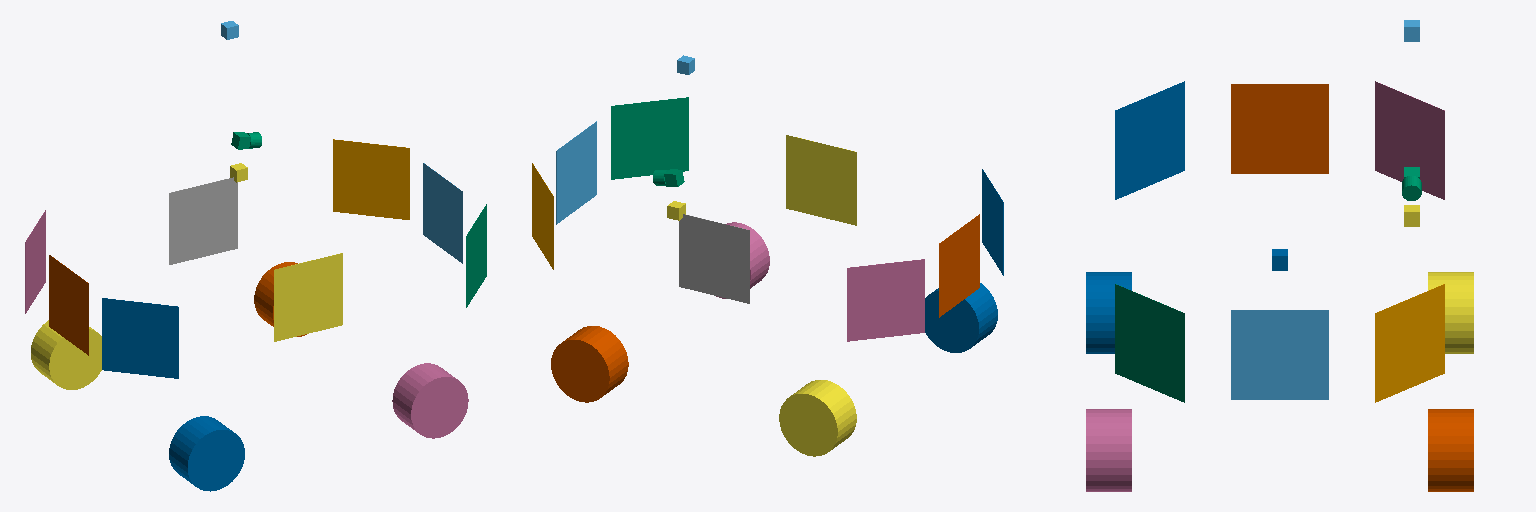
The robot description file, URDF, robot "rigatoni_opponent":
<?xml version="1.0" ?>
<!-- =================================================================================== -->
<!-- |    This document was autogenerated by xacro from [local-path]/catkin_ws/src/roboracing-software/rr_description/urdf/rigatoni_opponent.urdf.xacro | -->
<!-- |    EDITING THIS FILE BY HAND IS NOT RECOMMENDED                                 | -->
<!-- =================================================================================== -->
<robot name="rigatoni_opponent">
  <!-- ************************** Links *************************** -->
  <link name="base_footprint">
    <inertial>
      <mass value="0.0001"/>
      <inertia ixx="0.0001" ixy="0" ixz="0" iyy="0.0001" iyz="0" izz="0.0001"/>
    </inertial>
  </link>
  <link name="body_visual_origin">
    <inertial>
      <mass value="0.0001"/>
      <inertia ixx="0.0001" ixy="0" ixz="0" iyy="0.0001" iyz="0" izz="0.0001"/>
    </inertial>
    <visual>
      <geometry>
        <mesh filename="package://rr_description/meshes/rigatoni.stl" scale="0.01 0.01 0.01"/>
      </geometry>
    </visual>
    <!--            <collision>-->
    <!--                <xacro:mesh_geometry/>-->
    <!--            </collision>-->
  </link>
  <gazebo reference="body_visual_origin">
    <material>Gazebo/Grey</material>
  </gazebo>
  <gazebo reference="body_visual_origin">
    <collision>
      <surface>
        <contact>
          <collide_bitmask>0x1</collide_bitmask>
        </contact>
      </surface>
    </collision>
  </gazebo>
  <link name="body_inertial_center">
    <inertial>
      <mass value="50"/>
      <inertia ixx="0.5" ixy="0" ixz="0" iyy="0.75" iyz="0" izz="0.5"/>
    </inertial>
  </link>
  <gazebo reference="body_inertial_center"/>
  <!-- ************************** Joints *************************** -->
  <joint name="base_footprint_to_mesh_origin" type="fixed">
    <parent link="base_footprint"/>
    <child link="body_visual_origin"/>
    <origin rpy="1.5707963267948966 0 1.5707963267948966" xyz="0.53 0 0"/>
  </joint>
  <joint name="base_footprint_to_body_inertial_center" type="fixed">
    <parent link="base_footprint"/>
    <child link="body_inertial_center"/>
    <origin xyz="0.4 0 0.1"/>
  </joint>
  <link name="wheel_BL">
    <inertial>
      <mass value="0.01"/>
      <inertia ixx="0.001" ixy="0" ixz="0" iyy="0.001" iyz="0" izz="0.0078125"/>
    </inertial>
    <visual>
      <geometry>
        <cylinder length="0.14" radius="0.125"/>
      </geometry>
    </visual>
    <collision>
      <geometry>
        <cylinder length="0.14" radius="0.125"/>
      </geometry>
    </collision>
  </link>
  <gazebo reference="wheel_BL">
    <mu1>0.7</mu1>
    <mu2>0.7</mu2>
    <kp>1000000</kp>
    <kd>1000000</kd>
    <collision>
      <surface>
        <contact>
          <collide_bitmask>0x1</collide_bitmask>
        </contact>
      </surface>
    </collision>
  </gazebo>
  <gazebo reference="wheel_BL">
    <material>Gazebo/Black</material>
  </gazebo>
  <link name="wheel_BR">
    <inertial>
      <mass value="0.01"/>
      <inertia ixx="0.001" ixy="0" ixz="0" iyy="0.001" iyz="0" izz="0.0078125"/>
    </inertial>
    <visual>
      <geometry>
        <cylinder length="0.14" radius="0.125"/>
      </geometry>
    </visual>
    <collision>
      <geometry>
        <cylinder length="0.14" radius="0.125"/>
      </geometry>
    </collision>
  </link>
  <gazebo reference="wheel_BR">
    <mu1>0.7</mu1>
    <mu2>0.7</mu2>
    <kp>1000000</kp>
    <kd>1000000</kd>
    <collision>
      <surface>
        <contact>
          <collide_bitmask>0x1</collide_bitmask>
        </contact>
      </surface>
    </collision>
  </gazebo>
  <gazebo reference="wheel_BR">
    <material>Gazebo/Black</material>
  </gazebo>
  <link name="wheel_FL">
    <inertial>
      <mass value="0.01"/>
      <inertia ixx="0.001" ixy="0" ixz="0" iyy="0.001" iyz="0" izz="0.0078125"/>
    </inertial>
    <visual>
      <geometry>
        <cylinder length="0.14" radius="0.125"/>
      </geometry>
    </visual>
    <collision>
      <geometry>
        <cylinder length="0.14" radius="0.125"/>
      </geometry>
    </collision>
  </link>
  <gazebo reference="wheel_FL">
    <mu1>0.7</mu1>
    <mu2>0.7</mu2>
    <kp>1000000</kp>
    <kd>1000000</kd>
    <collision>
      <surface>
        <contact>
          <collide_bitmask>0x1</collide_bitmask>
        </contact>
      </surface>
    </collision>
  </gazebo>
  <gazebo reference="wheel_FL">
    <material>Gazebo/Black</material>
  </gazebo>
  <link name="wheel_FR">
    <inertial>
      <mass value="0.01"/>
      <inertia ixx="0.001" ixy="0" ixz="0" iyy="0.001" iyz="0" izz="0.0078125"/>
    </inertial>
    <visual>
      <geometry>
        <cylinder length="0.14" radius="0.125"/>
      </geometry>
    </visual>
    <collision>
      <geometry>
        <cylinder length="0.14" radius="0.125"/>
      </geometry>
    </collision>
  </link>
  <gazebo reference="wheel_FR">
    <mu1>0.7</mu1>
    <mu2>0.7</mu2>
    <kp>1000000</kp>
    <kd>1000000</kd>
    <collision>
      <surface>
        <contact>
          <collide_bitmask>0x1</collide_bitmask>
        </contact>
      </surface>
    </collision>
  </gazebo>
  <gazebo reference="wheel_FR">
    <material>Gazebo/Black</material>
  </gazebo>
  <link name="steering_link_left">
    <inertial>
      <mass value="0.0001"/>
      <inertia ixx="0.0001" ixy="0" ixz="0" iyy="0.0001" iyz="0" izz="0.0001"/>
    </inertial>
  </link>
  <link name="steering_link_right">
    <inertial>
      <mass value="0.0001"/>
      <inertia ixx="0.0001" ixy="0" ixz="0" iyy="0.0001" iyz="0" izz="0.0001"/>
    </inertial>
  </link>
  <link name="gps_link">
    <inertial>
      <mass value="0.0001"/>
      <inertia ixx="0.0001" ixy="0" ixz="0" iyy="0.0001" iyz="0" izz="0.0001"/>
    </inertial>
    <visual>
      <geometry>
        <box size="0.05 0.05 0.05"/>
      </geometry>
    </visual>
  </link>
  <gazebo reference="gps_link">
    <material>Gazebo/Gold</material>
  </gazebo>
  <link name="camera">
    <inertial>
      <mass value="0.0001"/>
      <inertia ixx="0.0001" ixy="0" ixz="0" iyy="0.0001" iyz="0" izz="0.0001"/>
    </inertial>
    <visual>
      <geometry>
        <box size="0.05 0.05 0.05"/>
      </geometry>
    </visual>
    <visual>
      <origin rpy="0 1.5707963267948966 0" xyz="0.05 0 0"/>
      <geometry>
        <cylinder length="0.05" radius="0.03"/>
      </geometry>
    </visual>
  </link>
  <gazebo reference="camera">
    <material>Gazebo/Gold</material>
  </gazebo>
  <link name="imu_top_link">
    <inertial>
      <mass value="0.0001"/>
      <inertia ixx="0.0001" ixy="0" ixz="0" iyy="0.0001" iyz="0" izz="0.0001"/>
    </inertial>
    <visual>
      <geometry>
        <box size="0.05 0.05 0.05"/>
      </geometry>
    </visual>
  </link>
  <gazebo reference="imu_top_link">
    <material>Gazebo/Gold</material>
  </gazebo>
  <link name="imu_bottom_link">
    <inertial>
      <mass value="0.0001"/>
      <inertia ixx="0.0001" ixy="0" ixz="0" iyy="0.0001" iyz="0" izz="0.0001"/>
    </inertial>
    <visual>
      <geometry>
        <box size="0.05 0.05 0.05"/>
      </geometry>
    </visual>
  </link>
  <gazebo reference="imu_bottom_link">
    <material>Gazebo/Gold</material>
  </gazebo>
  <link name="back_mid_april">
    <inertial>
      <mass value="0.0001"/>
      <inertia ixx="0.0001" ixy="0" ixz="0" iyy="0.0001" iyz="0" izz="0.0001"/>
    </inertial>
    <visual>
      <geometry>
        <box size="0.001 0.3 0.3 "/>
      </geometry>
    </visual>
  </link>
  <gazebo reference="back_mid_april">
    <material>Apriltag4</material>
  </gazebo>
  <link name="back_left_april">
    <inertial>
      <mass value="0.0001"/>
      <inertia ixx="0.0001" ixy="0" ixz="0" iyy="0.0001" iyz="0" izz="0.0001"/>
    </inertial>
    <visual>
      <geometry>
        <box size="0.001 0.3 0.3 "/>
      </geometry>
    </visual>
  </link>
  <gazebo reference="back_left_april">
    <material>Apriltag5</material>
  </gazebo>
  <link name="side_left_april">
    <inertial>
      <mass value="0.0001"/>
      <inertia ixx="0.0001" ixy="0" ixz="0" iyy="0.0001" iyz="0" izz="0.0001"/>
    </inertial>
    <visual>
      <geometry>
        <box size="0.001 0.3 0.3 "/>
      </geometry>
    </visual>
  </link>
  <gazebo reference="side_left_april">
    <material>Apriltag6</material>
  </gazebo>
  <link name="front_left_april">
    <inertial>
      <mass value="0.0001"/>
      <inertia ixx="0.0001" ixy="0" ixz="0" iyy="0.0001" iyz="0" izz="0.0001"/>
    </inertial>
    <visual>
      <geometry>
        <box size="0.001 0.3 0.3 "/>
      </geometry>
    </visual>
  </link>
  <gazebo reference="front_left_april">
    <material>Apriltag7</material>
  </gazebo>
  <link name="front_mid_april">
    <inertial>
      <mass value="0.0001"/>
      <inertia ixx="0.0001" ixy="0" ixz="0" iyy="0.0001" iyz="0" izz="0.0001"/>
    </inertial>
    <visual>
      <geometry>
        <box size="0.001 0.3 0.3 "/>
      </geometry>
    </visual>
  </link>
  <gazebo reference="front_mid_april">
    <material>Apriltag0</material>
  </gazebo>
  <link name="front_right_april">
    <inertial>
      <mass value="0.0001"/>
      <inertia ixx="0.0001" ixy="0" ixz="0" iyy="0.0001" iyz="0" izz="0.0001"/>
    </inertial>
    <visual>
      <geometry>
        <box size="0.001 0.3 0.3 "/>
      </geometry>
    </visual>
  </link>
  <gazebo reference="front_right_april">
    <material>Apriltag1</material>
  </gazebo>
  <link name="side_right_april">
    <inertial>
      <mass value="0.0001"/>
      <inertia ixx="0.0001" ixy="0" ixz="0" iyy="0.0001" iyz="0" izz="0.0001"/>
    </inertial>
    <visual>
      <geometry>
        <box size="0.001 0.3 0.3 "/>
      </geometry>
    </visual>
  </link>
  <gazebo reference="side_right_april">
    <material>Apriltag2</material>
  </gazebo>
  <link name="back_right_april">
    <inertial>
      <mass value="0.0001"/>
      <inertia ixx="0.0001" ixy="0" ixz="0" iyy="0.0001" iyz="0" izz="0.0001"/>
    </inertial>
    <visual>
      <geometry>
        <box size="0.001 0.3 0.3 "/>
      </geometry>
    </visual>
  </link>
  <gazebo reference="back_right_april">
    <material>Apriltag3</material>
  </gazebo>
  <!-- ************************** Joints *************************** -->
  <joint name="base_footprint_to_wheel_BL" type="continuous">
    <parent link="base_footprint"/>
    <child link="wheel_BL"/>
    <origin rpy="-1.5707963267948966 0 0" xyz="0 0.52 0.0325"/>
    <axis xyz="0 0 1"/>
  </joint>
  <gazebo reference="base_footprint_to_wheel_BL"/>
  <joint name="base_footprint_to_wheel_BR" type="continuous">
    <parent link="base_footprint"/>
    <child link="wheel_BR"/>
    <origin rpy="-1.5707963267948966 0 0" xyz="0 -0.52 0.0325"/>
    <axis xyz="0 0 1"/>
  </joint>
  <gazebo reference="base_footprint_to_wheel_BR"/>
  <joint name="base_footprint_to_steering_link_left" type="revolute">
    <parent link="base_footprint"/>
    <child link="steering_link_left"/>
    <origin rpy="0 0 0" xyz="0.97 0.52 0.0625"/>
    <axis xyz="0 0 1"/>
    <limit effort="10000.0" lower="-0.3" upper="0.3" velocity="2.0"/>
  </joint>
  <gazebo reference="base_footprint_to_steering_link_left"/>
  <joint name="steering_link_left_to_wheel_FL" type="continuous">
    <origin rpy="1.5707963267948966 0 0" xyz="0 0 -0.037"/>
    <parent link="steering_link_left"/>
    <child link="wheel_FL"/>
    <axis xyz="0 0 1"/>
  </joint>
  <gazebo reference="steering_link_left_to_wheel_FL"/>
  <joint name="base_footprint_to_steering_link_right" type="revolute">
    <parent link="base_footprint"/>
    <child link="steering_link_right"/>
    <origin rpy="0 0 0" xyz="0.97 -0.52 0.0625"/>
    <axis xyz="0 0 1"/>
    <limit effort="10000.0" lower="-0.3" upper="0.3" velocity="2.0"/>
  </joint>
  <gazebo reference="base_footprint_to_steering_link_right"/>
  <joint name="steering_link_right_to_wheel_FR" type="continuous">
    <origin rpy="1.5707963267948966 0 0" xyz="0 0 -0.037"/>
    <parent link="steering_link_right"/>
    <child link="wheel_FR"/>
    <axis xyz="0 0 1"/>
  </joint>
  <gazebo reference="steering_link_right_to_wheel_FR"/>
  <joint name="base_footprint_to_gps" type="fixed">
    <parent link="base_footprint"/>
    <child link="gps_link"/>
    <origin rpy="0 0 0" xyz="0.63 0.4 1.27"/>
  </joint>
  <joint name="base_footprint_to_camera" type="fixed">
    <parent link="base_footprint"/>
    <child link="camera"/>
    <origin rpy="0 0.2 0" xyz="0.68 0.4 0.8"/>
  </joint>
  <link name="camera_optical">
    <inertial>
      <mass value="0.0001"/>
      <inertia ixx="0.0001" ixy="0" ixz="0" iyy="0.0001" iyz="0" izz="0.0001"/>
    </inertial>
  </link>
  <joint name="camera_to_optical" type="fixed">
    <parent link="camera"/>
    <child link="camera_optical"/>
    <origin rpy="-1.5707963267948966 0 -1.5707963267948966" xyz="0 0 0"/>
  </joint>
  <joint name="base_footprint_to_imu" type="fixed">
    <parent link="base_footprint"/>
    <child link="imu_top_link"/>
    <origin rpy="0 0 0" xyz="0.67 0.4 0.67"/>
  </joint>
  <joint name="base_footprint_to_imu2" type="fixed">
    <parent link="base_footprint"/>
    <child link="imu_bottom_link"/>
    <origin rpy="0 0 0" xyz="0 0 0.21"/>
  </joint>
  <joint name="base_footprint_to_back_mid_april" type="fixed">
    <parent link="base_footprint"/>
    <child link="back_mid_april"/>
    <origin rpy="0 0 0" xyz="-.3 0 0.51"/>
  </joint>
  <joint name="base_footprint_to_back_left_april" type="fixed">
    <parent link="base_footprint"/>
    <child link="back_left_april"/>
    <origin rpy="0 0 -0.7853981633974483" xyz="-.21581 .3937 0.51"/>
  </joint>
  <joint name="base_footprint_to_side_left_april" type="fixed">
    <parent link="base_footprint"/>
    <child link="side_left_april"/>
    <origin rpy="0 0 -1.5707963267948966" xyz=".512 .3937 0.51"/>
  </joint>
  <joint name="base_footprint_to_front_left_april" type="fixed">
    <parent link="base_footprint"/>
    <child link="front_left_april"/>
    <origin rpy="0 0 0.7853981633974483" xyz="1.2414 .3937 0.51"/>
  </joint>
  <joint name="base_footprint_to_front_mid_april" type="fixed">
    <parent link="base_footprint"/>
    <child link="front_mid_april"/>
    <origin rpy="0 0 0" xyz="1.3256 0 0.51"/>
  </joint>
  <joint name="base_footprint_to_front_right_april" type="fixed">
    <parent link="base_footprint"/>
    <child link="front_right_april"/>
    <origin rpy="0 0 -0.7853981633974483" xyz="1.2414 -.3937 0.51"/>
  </joint>
  <joint name="base_footprint_to_side_right_april" type="fixed">
    <parent link="base_footprint"/>
    <child link="side_right_april"/>
    <origin rpy="0 0 -1.5707963267948966" xyz=".512 -.3937 0.51"/>
  </joint>
  <joint name="base_footprint_to_back_right_april" type="fixed">
    <parent link="base_footprint"/>
    <child link="back_right_april"/>
    <origin rpy="0 0 0.7853981633974483" xyz="-.21581 -.3937 0.51"/>
  </joint>
  <!-- ******************* Sensors *********************** -->
  <joint name="lidar_base_mount_joint" type="fixed">
    <origin rpy="0 0 0" xyz="1.25 0 0.3"/>
    <parent link="base_footprint"/>
    <child link="lidar_base_link"/>
  </joint>
  <link name="lidar_base_link">
    <inertial>
      <mass value="0.83"/>
      <origin xyz="0 0 0.03585"/>
      <inertia ixx="0.000908059425" ixy="0" ixz="0" iyy="0.000908059425" iyz="0" izz="0.0011049624"/>
    </inertial>
    <visual>
      <geometry>
        <mesh filename="package://velodyne_description/meshes/VLP16_base_1.dae"/>
      </geometry>
    </visual>
    <visual>
      <geometry>
        <mesh filename="package://velodyne_description/meshes/VLP16_base_2.dae"/>
      </geometry>
    </visual>
    <collision>
      <origin rpy="0 0 0" xyz="0 0 0.03585"/>
      <geometry>
        <cylinder length="0.0717" radius="0.0516"/>
      </geometry>
    </collision>
  </link>
  <joint name="lidar_base_scan_joint" type="fixed">
    <origin rpy="0 0 0" xyz="0 0 0.0377"/>
    <parent link="lidar_base_link"/>
    <child link="lidar"/>
  </joint>
  <link name="lidar">
    <inertial>
      <mass value="0.01"/>
      <origin xyz="0 0 0"/>
      <inertia ixx="1e-7" ixy="0" ixz="0" iyy="1e-7" iyz="0" izz="1e-7"/>
    </inertial>
    <visual>
      <origin xyz="0 0 -0.0377"/>
      <geometry>
        <mesh filename="package://velodyne_description/meshes/VLP16_scan.dae"/>
      </geometry>
    </visual>
  </link>
  <!-- Gazebo requires the velodyne_gazebo_plugins package -->
  <gazebo reference="lidar">
    <sensor name="lidar-VLP16" type="gpu_ray">
      <pose>0 0 0 0 0 0</pose>
      <visualize>false</visualize>
      <update_rate>10</update_rate>
      <ray>
        <scan>
          <horizontal>
            <samples>500</samples>
            <resolution>1</resolution>
            <min_angle>-3.141592653589793</min_angle>
            <max_angle>3.141592653589793</max_angle>
          </horizontal>
          <vertical>
            <samples>16</samples>
            <resolution>1</resolution>
            <min_angle>-0.2617993877991494</min_angle>
            <max_angle> 0.2617993877991494</max_angle>
          </vertical>
        </scan>
        <range>
          <min>0.3</min>
          <max>131.0</max>
          <resolution>0.001</resolution>
        </range>
        <noise>
          <type>gaussian</type>
          <mean>0.0</mean>
          <stddev>0.0</stddev>
        </noise>
      </ray>
      <plugin filename="libgazebo_ros_velodyne_gpu_laser.so" name="gazebo_ros_laser_controller">
        <topicName>/velodyne_points_april</topicName>
        <frameName>lidar</frameName>
        <min_range>0.9</min_range>
        <max_range>130.0</max_range>
        <gaussianNoise>0.008</gaussianNoise>
      </plugin>
    </sensor>
  </gazebo>
  <!-- FLIR Blackfly + wide-angle lens -->
  <gazebo reference="camera">
    <sensor name="camera_sensor" type="camera">
      <camera>
        <horizontal_fov>1.6955</horizontal_fov>
        <image>
          <width>1280</width>
          <height>964</height>
          <format>R8G8B8</format>
        </image>
        <clip>
          <near>0.05</near>
          <far>100</far>
        </clip>
        <noise>
          <type>gaussian</type>
          <mean>0.0</mean>
          <stddev>0.007</stddev>
        </noise>
      </camera>
      <always_on>true</always_on>
      <update_rate>15</update_rate>
      <plugin filename="libgazebo_ros_camera.so" name="camera_controller">
        <alwaysOn>true</alwaysOn>
        <cameraName>camera</cameraName>
        <imageTopicName>image_color_rect_april</imageTopicName>
        <cameraInfoTopicName>camera_info_april</cameraInfoTopicName>
        <frameName>camera_optical_april</frameName>
        <distortionK1>0.0</distortionK1>
        <distortionK2>0.0</distortionK2>
        <distortionK3>0.0</distortionK3>
        <distortionT1>0.0</distortionT1>
        <distortionT2>0.0</distortionT2>
      </plugin>
    </sensor>
  </gazebo>
  <!-- IMU -->
  <gazebo reference="imu_top_link">
    <gravity>true</gravity>
    <sensor name="imu_sensor" type="imu">
      <always_on>true</always_on>
      <update_rate>100</update_rate>
      <visualize>true</visualize>
      <topic>__default_topic__</topic>
      <plugin filename="libgazebo_ros_imu_sensor.so" name="imu_plugin">
        <topicName>imu</topicName>
        <bodyName>imu_top_link</bodyName>
        <updateRateHZ>20.0</updateRateHZ>
        <gaussianNoise>0.005</gaussianNoise>
        <xyzOffset>0 0 0</xyzOffset>
        <rpyOffset>0 0 0</rpyOffset>
        <frameName>imu_top_link</frameName>
      </plugin>
      <pose>0 0 0 0 0 0</pose>
    </sensor>
  </gazebo>
  <!-- IMU -->
  <gazebo reference="imu_bottom_link">
    <gravity>true</gravity>
    <sensor name="imu_sensor_bottom" type="imu">
      <always_on>true</always_on>
      <update_rate>100</update_rate>
      <visualize>true</visualize>
      <topic>__default_topic__</topic>
      <plugin filename="libgazebo_ros_imu_sensor.so" name="imu_plugin">
        <topicName>imu</topicName>
        <bodyName>imu_bottom_link</bodyName>
        <updateRateHZ>20.0</updateRateHZ>
        <gaussianNoise>0.005</gaussianNoise>
        <xyzOffset>0 0 0</xyzOffset>
        <rpyOffset>0 0 0</rpyOffset>
        <frameName>imu_bottom_link</frameName>
      </plugin>
      <pose>0 0 0 0 0 0</pose>
    </sensor>
  </gazebo>
  <!-- GPS -->
  <gazebo>
    <plugin filename="libhector_gazebo_ros_gps.so" name="gps_controller">
      <robotNamespace>/</robotNamespace>
      <updateRate>10</updateRate>
      <bodyName>gps_link</bodyName>
      <frameId>gps_link</frameId>
      <topicName>gps/fix</topicName>
      <velocityTopicName>gps/vel</velocityTopicName>
      <referenceLatitude>33.8</referenceLatitude>
      <referenceLongitude>-84.4</referenceLongitude>
      <referenceHeading>0</referenceHeading>
      <referenceAltitude>0</referenceAltitude>
      <drift>0.2 0.2 0.2</drift>
      <driftFrequency>0.01 0.01 0.01</driftFrequency>
      <gaussianNoise>0.05 0.05 0.05</gaussianNoise>
      <velocityDrift>0.05 0.05 0.05</velocityDrift>
      <velocityDriftFrequency>0.1 0.1 0.1</velocityDriftFrequency>
      <velocityGaussianNoise>0.05 0.05 0.05</velocityGaussianNoise>
    </plugin>
  </gazebo>
  <!-- ground-truth localization plugin -->
  <gazebo>
    <plugin filename="libgazebo_ros_p3d.so" name="ground_truth_tracker">
      <alwaysOn>true</alwaysOn>
      <updateRate>10.0</updateRate>
      <bodyName>base_footprint</bodyName>
      <topicName>/odometry/ground_truth</topicName>
      <gaussianNoise>0.0</gaussianNoise>
      <frameName>world</frameName>
      <xyzOffsets>0 0 0</xyzOffsets>
      <rpyOffsets>0 0 0</rpyOffsets>
    </plugin>
  </gazebo>
  <!-- ****************** Actuators ********************** -->
  <gazebo>
    <plugin filename="libgazebo_ros_control.so" name="gazebo_ros_control">
      <robotNamespace>/</robotNamespace>
    </plugin>
  </gazebo>
  <transmission name="trans_back_left">
    <type>transmission_interface/SimpleTransmission</type>
    <joint name="base_footprint_to_wheel_BL">
      <hardwareInterface>hardware_interface/EffortJointInterface</hardwareInterface>
    </joint>
    <actuator name="motor_left">
      <hardwareInterface>hardware_interface/EffortJointInterface</hardwareInterface>
      <mechanicalReduction>1</mechanicalReduction>
    </actuator>
  </transmission>
  <transmission name="trans_back_right">
    <type>transmission_interface/SimpleTransmission</type>
    <joint name="base_footprint_to_wheel_BR">
      <hardwareInterface>hardware_interface/EffortJointInterface</hardwareInterface>
    </joint>
    <actuator name="motor_right">
      <hardwareInterface>hardware_interface/EffortJointInterface</hardwareInterface>
      <mechanicalReduction>1</mechanicalReduction>
    </actuator>
  </transmission>
  <transmission name="left_steering_trans">
    <type>transmission_interface/SimpleTransmission</type>
    <joint name="base_footprint_to_steering_link_left">
      <hardwareInterface>hardware_interface/EffortJointInterface</hardwareInterface>
    </joint>
    <actuator name="left_steer_motor">
      <hardwareInterface>hardware_interface/EffortJointInterface</hardwareInterface>
      <mechanicalReduction>1</mechanicalReduction>
    </actuator>
  </transmission>
  <transmission name="right_steering_trans">
    <type>transmission_interface/SimpleTransmission</type>
    <joint name="base_footprint_to_steering_link_right">
      <hardwareInterface>hardware_interface/EffortJointInterface</hardwareInterface>
    </joint>
    <actuator name="right_steer_motor">
      <hardwareInterface>hardware_interface/EffortJointInterface</hardwareInterface>
      <mechanicalReduction>1</mechanicalReduction>
    </actuator>
  </transmission>
</robot>

--- Facts derived from the render (not from the file) ---
Views: 3 orthographic renders of the robot side by side, from view 1: azimuth 30°, elevation 25°; view 2: azimuth 150°, elevation 25°; view 3: azimuth 270°, elevation 25°.
Robot: rigatoni_opponent — 24 links, 23 joints (2 revolute, 4 continuous, 17 fixed); root link base_footprint; default pose: every joint at zero.
Links seen in each view (by area): view 1: back_right_april, front_left_april, side_right_april, side_left_april, wheel_BR, wheel_FR, wheel_BL, back_mid_april, front_mid_april, front_right_april, back_left_april, wheel_FL; view 2: back_left_april, front_right_april, side_right_april, side_left_april, wheel_BL, wheel_FL, wheel_BR, back_mid_april, front_mid_april, front_left_april, back_right_april, wheel_FR; view 3: back_mid_april, front_mid_april, front_left_april, front_right_april, back_right_april, back_left_april, wheel_FL, wheel_FR, wheel_BL, wheel_BR, camera.
Link boxes in pixels (x1=…): back_right_april: x1=102, y1=298, x2=178, y2=378; front_left_april: x1=333, y1=139, x2=409, y2=219; side_right_april: x1=274, y1=253, x2=342, y2=341; side_left_april: x1=169, y1=177, x2=237, y2=264; wheel_BR: x1=169, y1=416, x2=244, y2=491; wheel_FR: x1=392, y1=363, x2=468, y2=438; wheel_BL: x1=31, y1=320, x2=101, y2=389; back_mid_april: x1=49, y1=255, x2=88, y2=355; front_mid_april: x1=423, y1=163, x2=462, y2=263; front_right_april: x1=466, y1=204, x2=486, y2=307; back_left_april: x1=25, y1=210, x2=45, y2=313; wheel_FL: x1=254, y1=262, x2=306, y2=336; back_left_april: x1=847, y1=259, x2=924, y2=341; front_right_april: x1=611, y1=97, x2=688, y2=179; side_right_april: x1=786, y1=135, x2=856, y2=225; side_left_april: x1=679, y1=214, x2=749, y2=303; wheel_BL: x1=779, y1=380, x2=856, y2=456; wheel_FL: x1=551, y1=326, x2=628, y2=402; wheel_BR: x1=925, y1=283, x2=997, y2=352; back_mid_april: x1=939, y1=214, x2=979, y2=317; front_mid_april: x1=556, y1=121, x2=596, y2=224; front_left_april: x1=532, y1=163, x2=553, y2=269; back_right_april: x1=982, y1=169, x2=1003, y2=275; wheel_FR: x1=716, y1=222, x2=769, y2=298; back_mid_april: x1=1231, y1=84, x2=1328, y2=173; front_mid_april: x1=1231, y1=310, x2=1328, y2=399; front_left_april: x1=1375, y1=284, x2=1444, y2=402; front_right_april: x1=1115, y1=284, x2=1184, y2=402; back_right_april: x1=1115, y1=81, x2=1184, y2=199; back_left_april: x1=1375, y1=81, x2=1444, y2=199; wheel_FL: x1=1428, y1=409, x2=1473, y2=491; wheel_FR: x1=1086, y1=409, x2=1131, y2=491; wheel_BL: x1=1428, y1=272, x2=1473, y2=353; wheel_BR: x1=1086, y1=272, x2=1131, y2=353; camera: x1=1402, y1=167, x2=1421, y2=200.
Bounding box of the posed robot: 1.67 × 1.18 × 1.39 m (x, y, z).
Meshes: 4 distinct files referenced, 0 mesh visuals loaded (none loaded); not drawn: 4 (reference not matched to a file when rendering).